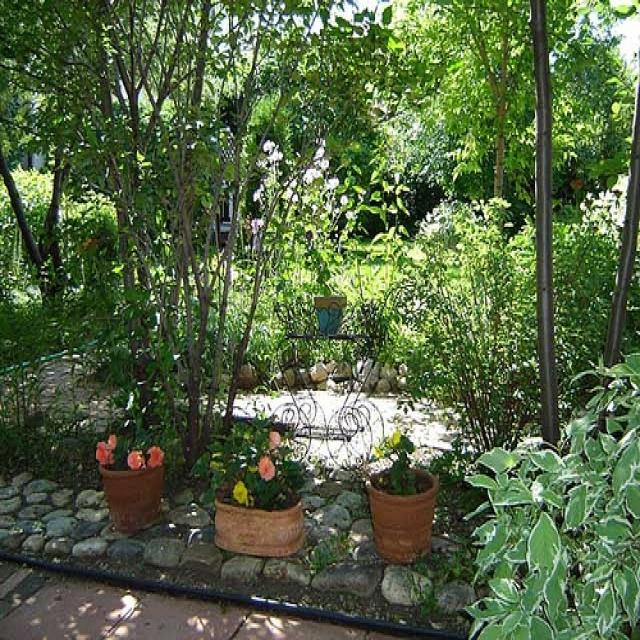pottedplant: (210, 430, 307, 558), (366, 427, 439, 568), (91, 430, 166, 531)
